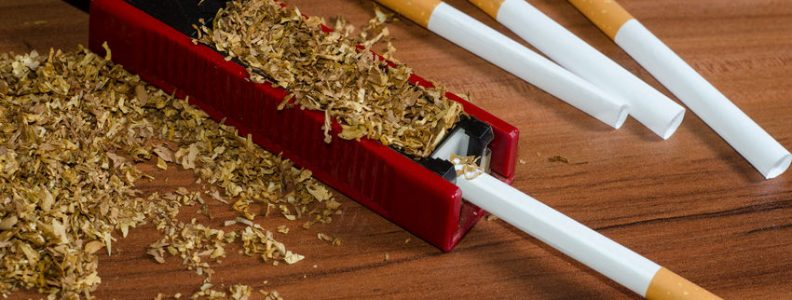cigarette: (457, 164, 729, 300)
